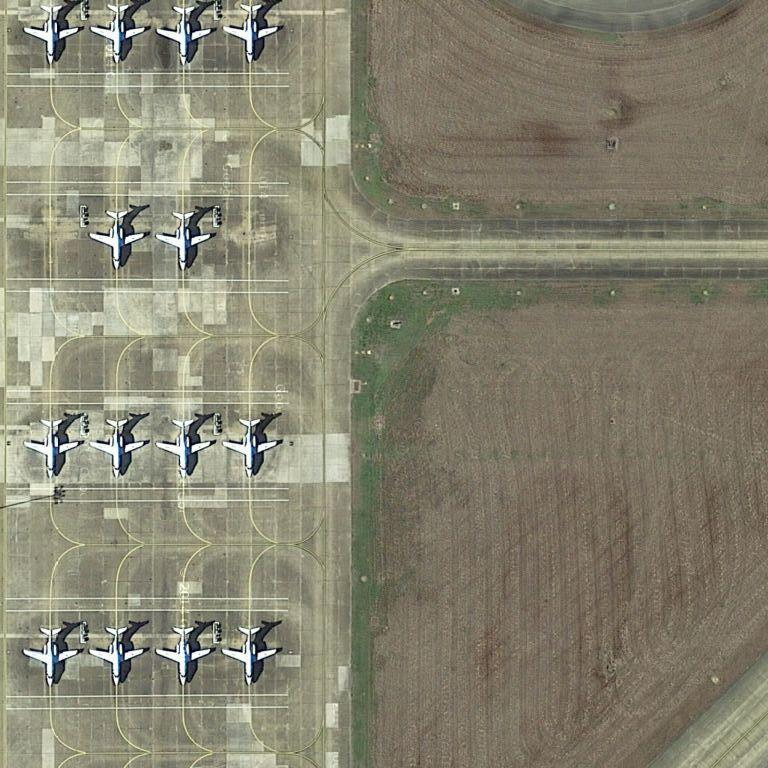plane: (19, 413, 80, 485), (20, 621, 78, 692), (87, 205, 146, 273), (87, 413, 144, 483), (20, 6, 84, 67), (220, 413, 281, 477), (155, 415, 210, 485), (87, 4, 148, 67), (222, 4, 280, 69), (154, 5, 212, 70), (157, 621, 211, 690), (89, 624, 145, 686), (224, 622, 277, 687), (157, 210, 213, 270)
